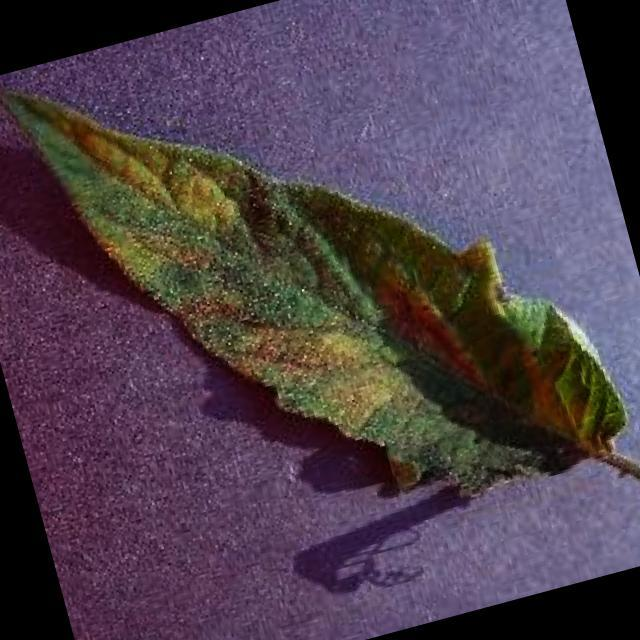Tomato mold leaf: (5, 0, 639, 588)
